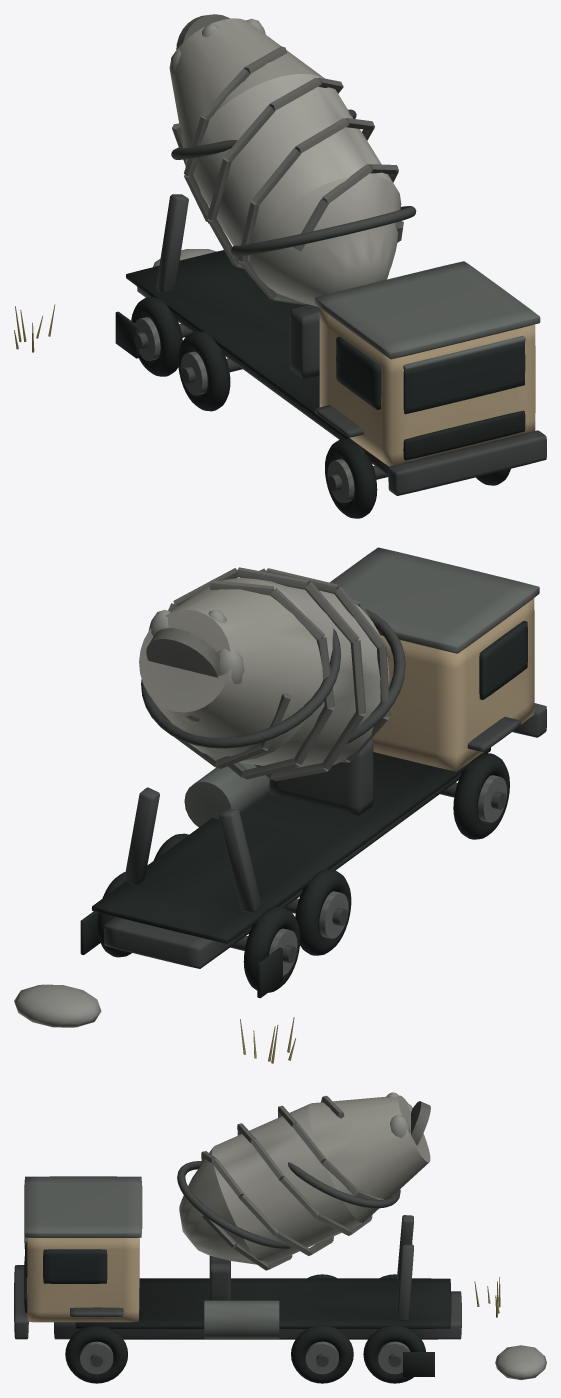
Rendered from mixer_wreck_a.glb.
The picture shows the model from 3 angles, top to bottom: view 1: azimuth 30°, elevation 25°; view 2: azimuth 150°, elevation 25°; view 3: azimuth 270°, elevation 25°; orthographic projection. The views are drawn at different scales.
Visible parts, largest first — view 1: Surface; view 2: Surface; view 3: Surface.
Part boxes in pixels (left/top/right/bottom): Surface: left=14, top=14, right=546, bottom=518; Surface: left=14, top=547, right=546, bottom=1063; Surface: left=14, top=1092, right=546, bottom=1383.
Bounding box in the file's own units: 5.92 × 8.03 × 14.88.
